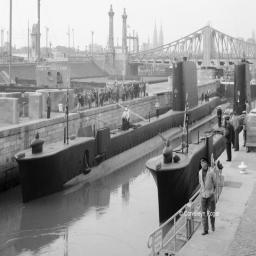submarine: (19, 52, 228, 209), (144, 54, 251, 228)
